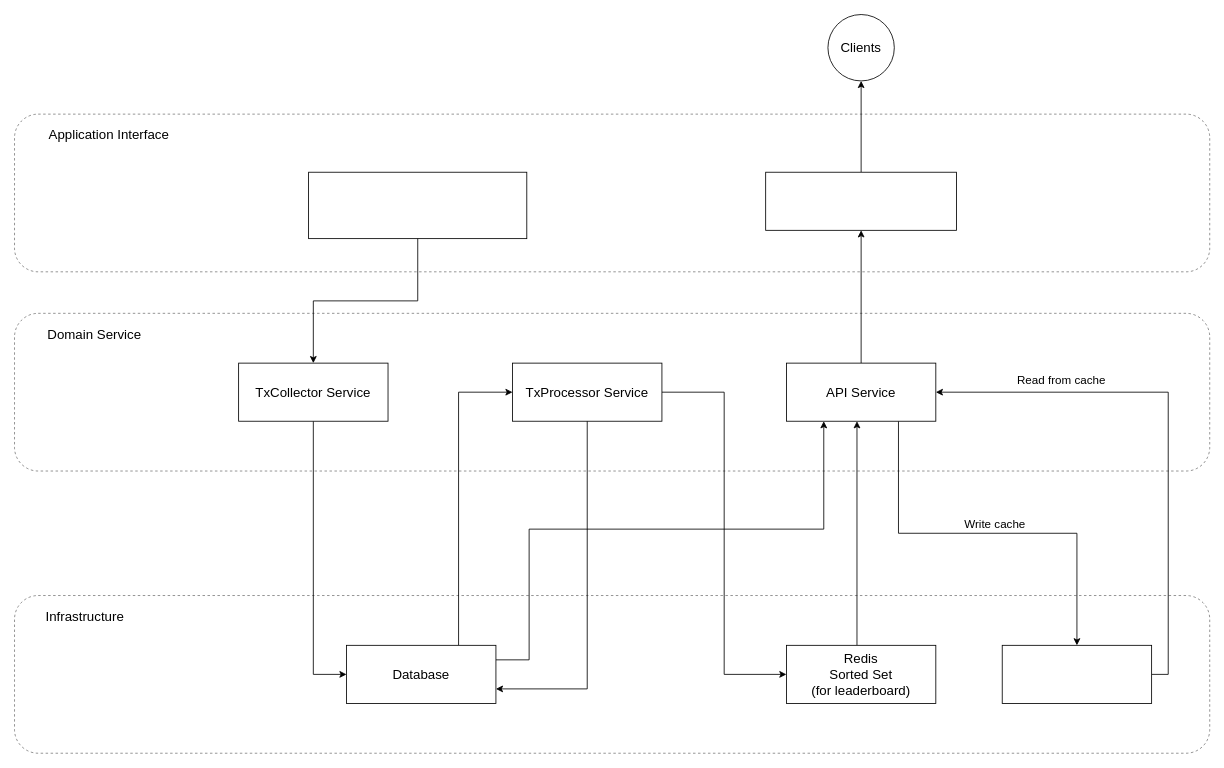
Some shapes in this 1224 by 768 pixel diagram are drawn without their labels. The box of each missing label's shape, as (x1, y1, x2, y2) in pixels:
Redis Cache (read through strategy): (1001, 644, 1152, 703)
REST: (765, 171, 957, 230)
Subgraphs Aggregator V3 (Ethereum, BSC, Polygon, ...): (308, 171, 527, 239)
